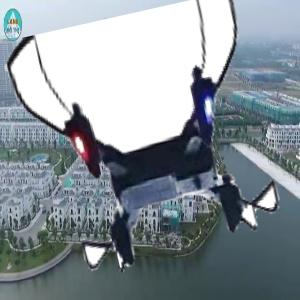drone: (24, 13, 282, 271)
